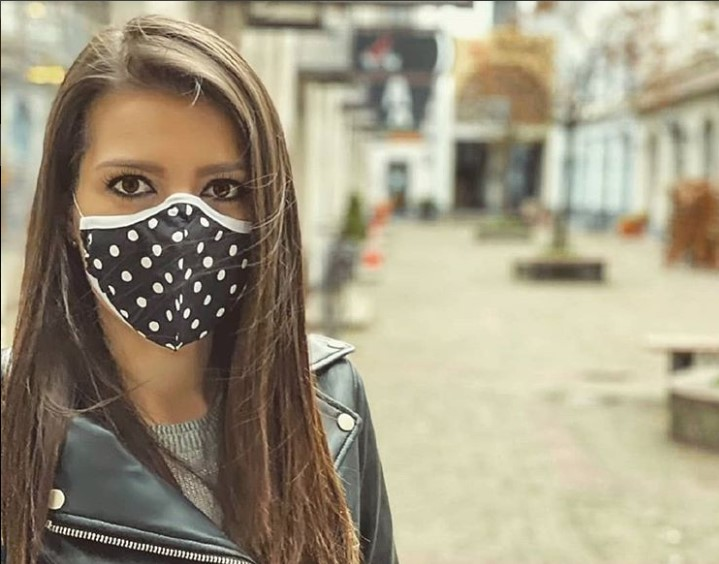face_with_mask: (50, 46, 310, 362)
